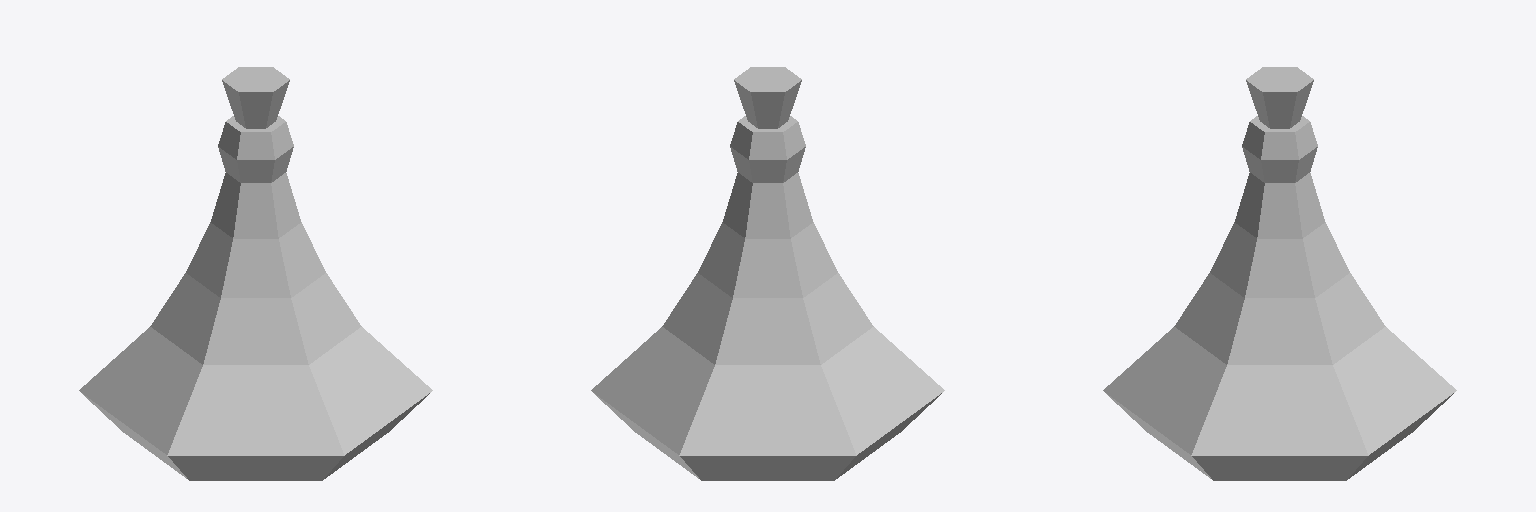
Rendered from potion.obj.
3 renders of one model, left to right at view 1: azimuth 30°, elevation 25°; view 2: azimuth 150°, elevation 25°; view 3: azimuth 270°, elevation 25°, orthographic.
Visible parts, largest first — view 1: potion_Cylinder; view 2: potion_Cylinder; view 3: potion_Cylinder.
Boxes of the visible parts, x1=… form: potion_Cylinder: x1=79, y1=67, x2=432, y2=480; potion_Cylinder: x1=591, y1=67, x2=944, y2=480; potion_Cylinder: x1=1103, y1=67, x2=1456, y2=480.
Size of the model in its own units: 0.3152 by 0.3991 by 0.3639.